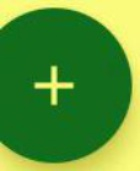ImgButton: (1, 1, 139, 170)
